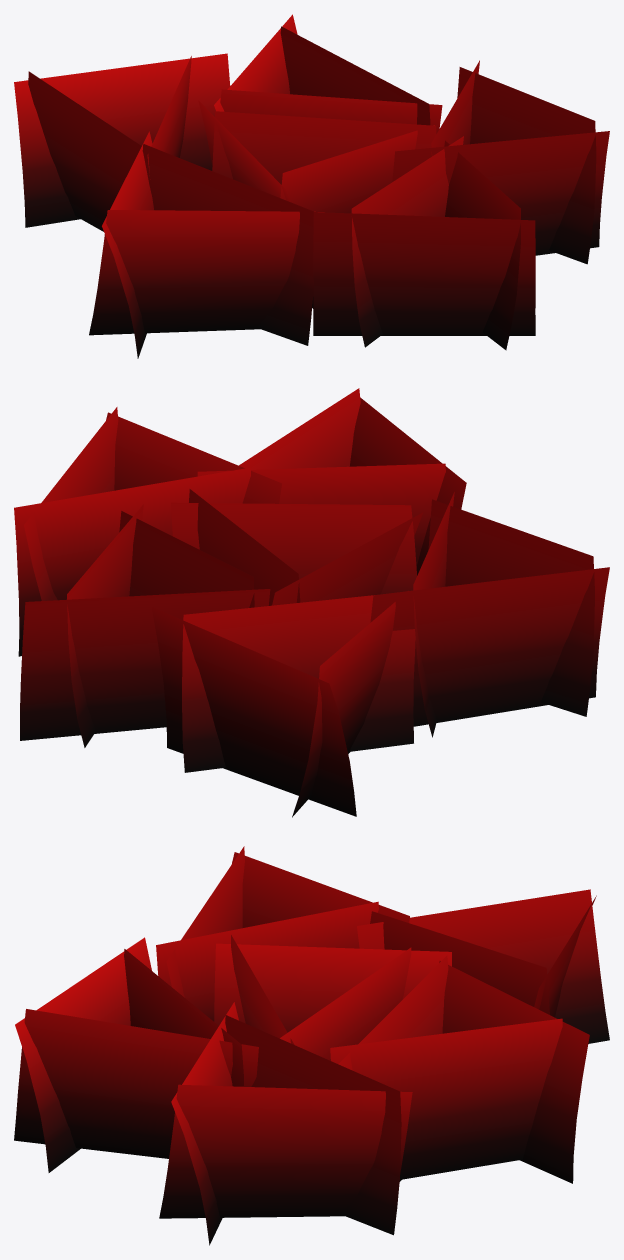
File: test_single.fbx
3 renders of one model, top to bottom at view 1: azimuth 30°, elevation 25°; view 2: azimuth 150°, elevation 25°; view 3: azimuth 270°, elevation 25°, orthographic. The views are drawn at different scales.
Visible parts, largest first — view 1: Object006; view 2: Object006; view 3: Object006.
Boxes of the visible parts, x1=… form: Object006: x1=14, y1=14, x2=609, y2=358; Object006: x1=14, y1=388, x2=609, y2=817; Object006: x1=14, y1=846, x2=609, y2=1245.
Bounding box in the file's own units: 1.23 × 1.22 × 0.3606.
